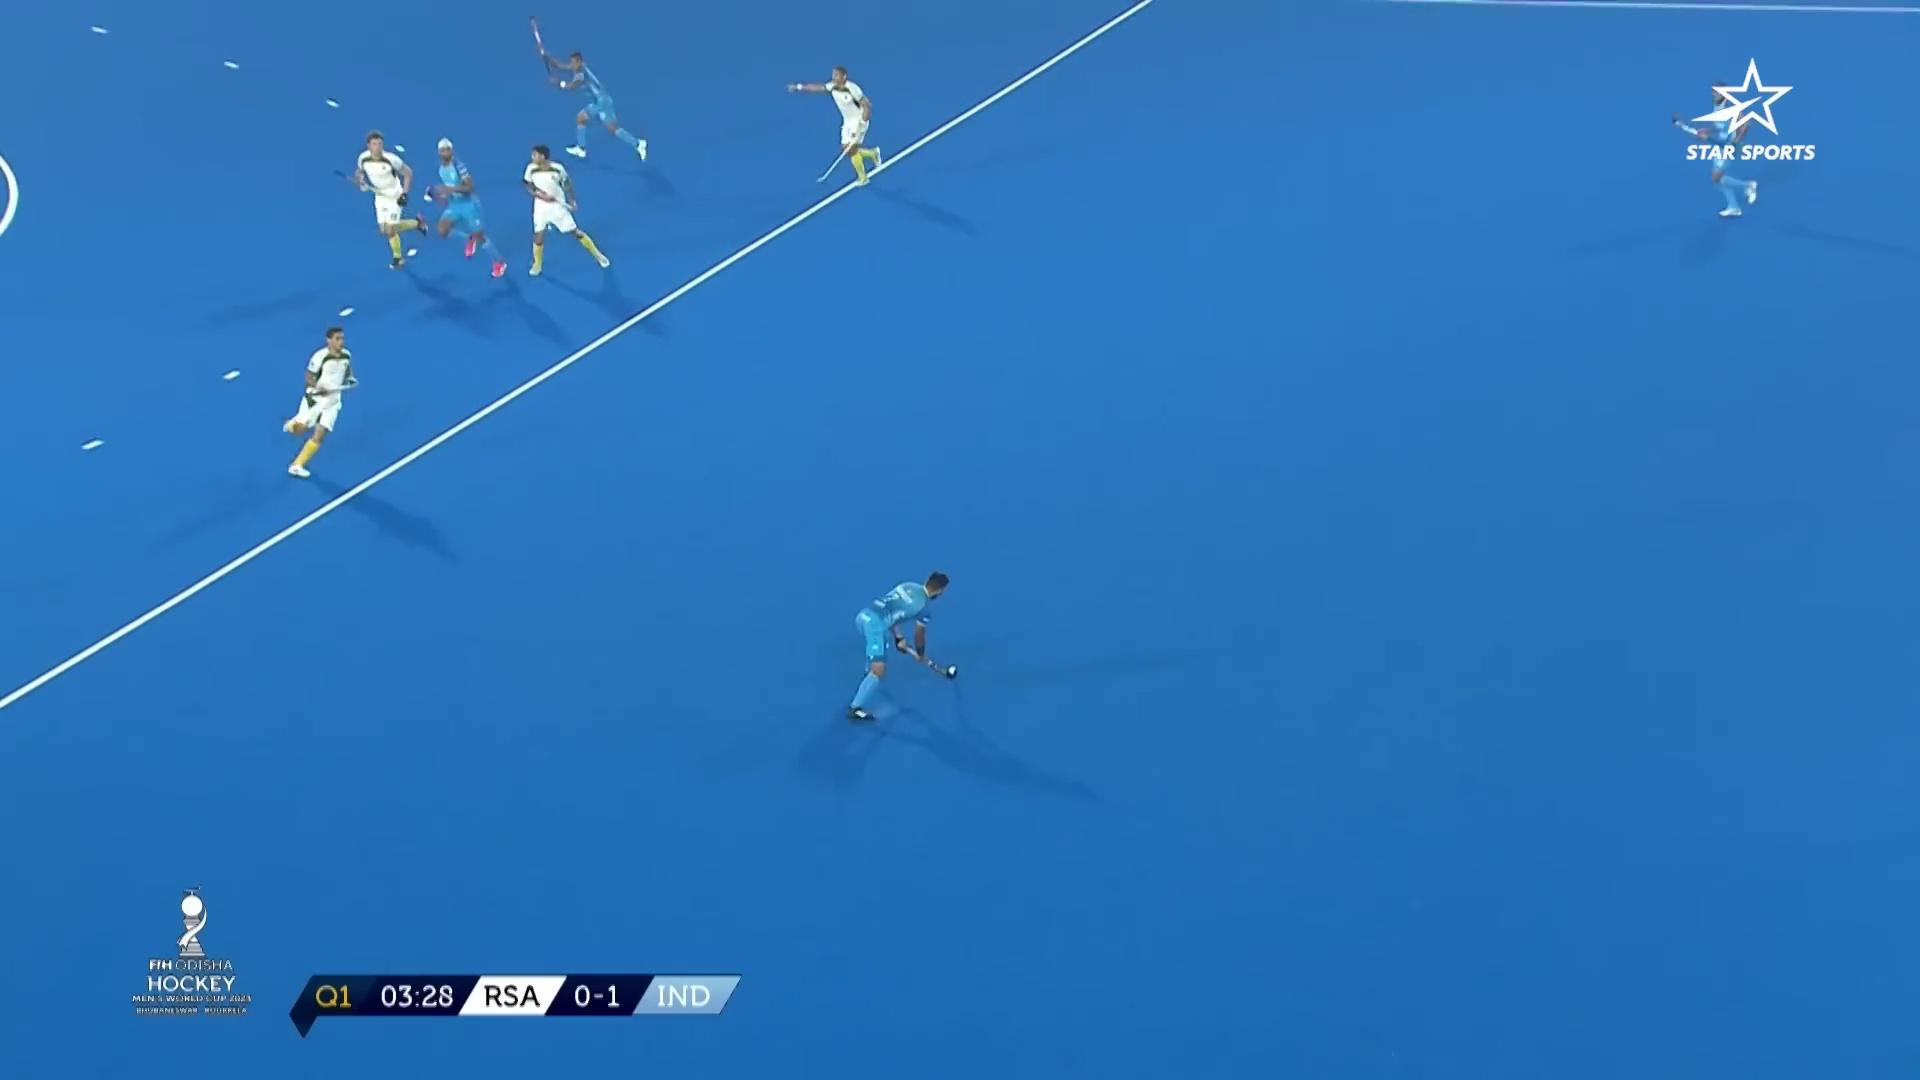ball: (940, 654, 965, 680)
